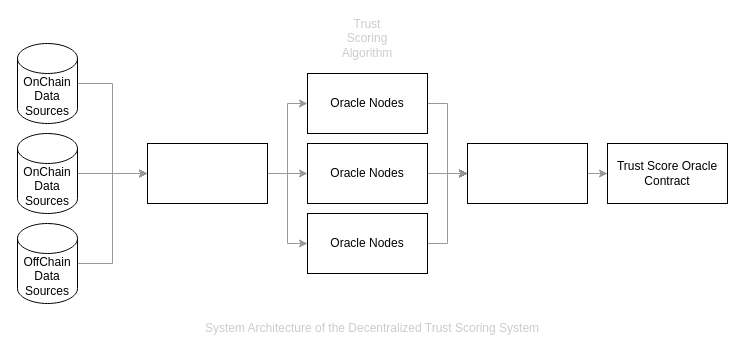
The diagram is 745 pixels wide and 361 high, and some of its shapes have lost their labels. Each missing label, with the centre of its shape:
Data Aggregation Layer: point 207,173
Verification Layer: point 527,173
